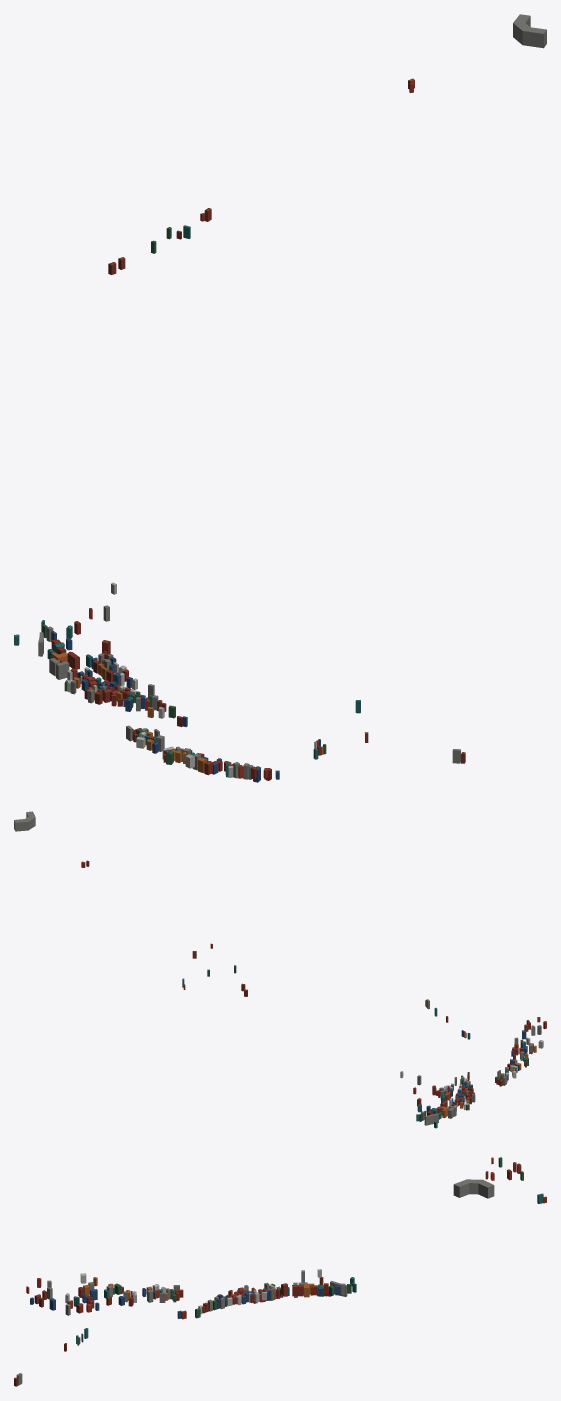
File: near-15-27362-14874.bfe17998.glb
3 views of the same model, one above another, from view 1: azimuth 30°, elevation 25°; view 2: azimuth 150°, elevation 25°; view 3: azimuth 270°, elevation 25° (orthographic). The views are drawn at different scales.
Bounding box in the file's own units: 1197 × 821 × 1169.
